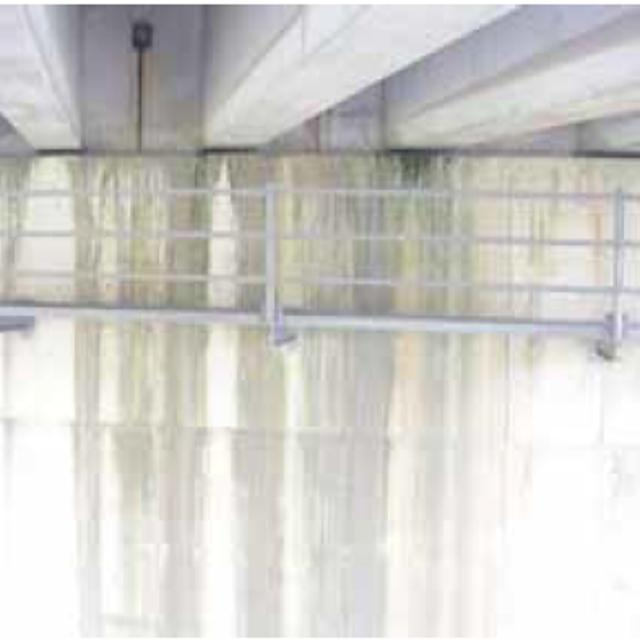leakage: (70, 144, 466, 640)
